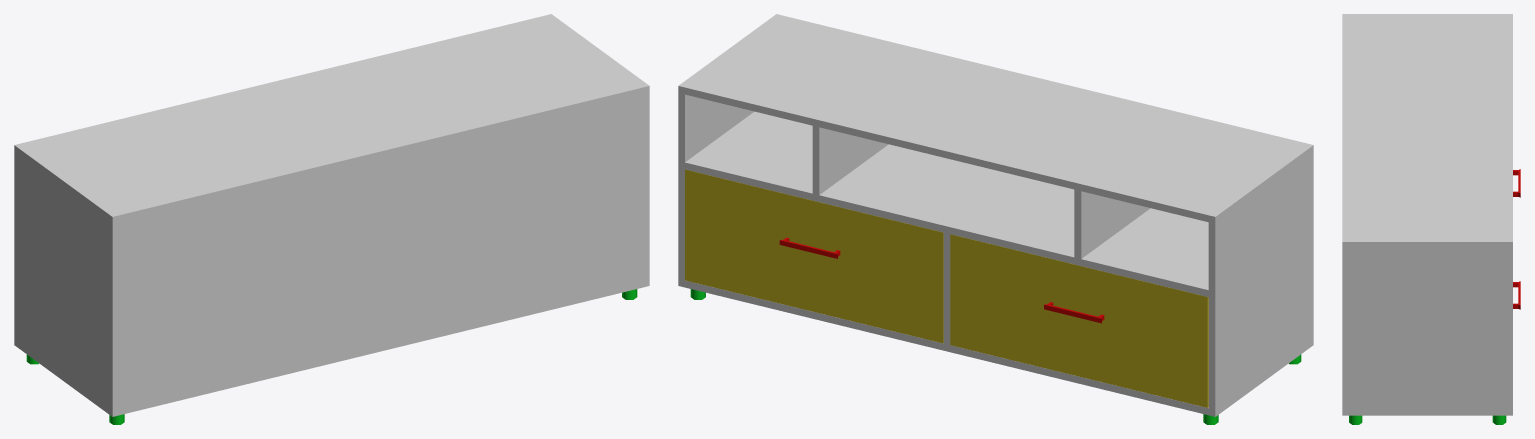
Rendered from Tumbochka_1.fbx.
The picture shows the model from 3 angles, left to right: view 1: azimuth 30°, elevation 25°; view 2: azimuth 150°, elevation 25°; view 3: azimuth 270°, elevation 25°; orthographic projection. The views are drawn at different scales.
Parts seen in each view (by area): view 1: Cube.500, Cube.490, Cube.492, Cube.491, Cube.494, Cube.493, Cube.499; view 2: Cube.490, Cube.494, Cube.3984, Cube.574, Cube.492, Cube.491, Cube.493, Cube.495, Cube.496, Cube.499; view 3: Cube.490, Cube.493, Cube.491.
Part boxes in pixels (x1,y1,x2,y2): Cube.500: (119,94,642,408); Cube.490: (14,14,649,223); Cube.492: (14,152,119,409); Cube.491: (14,279,649,416); Cube.494: (123,162,642,292); Cube.493: (643,93,649,280); Cube.499: (377,233,384,344); Cube.490: (678,14,1313,223); Cube.494: (685,111,1208,297); Cube.3984: (950,234,1208,407); Cube.574: (685,169,943,343); Cube.492: (1208,152,1313,409); Cube.491: (678,279,1313,416); Cube.493: (678,93,754,280); Cube.495: (812,126,888,194); Cube.496: (1074,189,1150,258); Cube.499: (943,233,950,344); Cube.490: (1342,14,1512,247); Cube.493: (1342,248,1512,409); Cube.491: (1342,409,1512,415).
Bounding box in the file's own units: 120 × 45.65 × 39.72.
